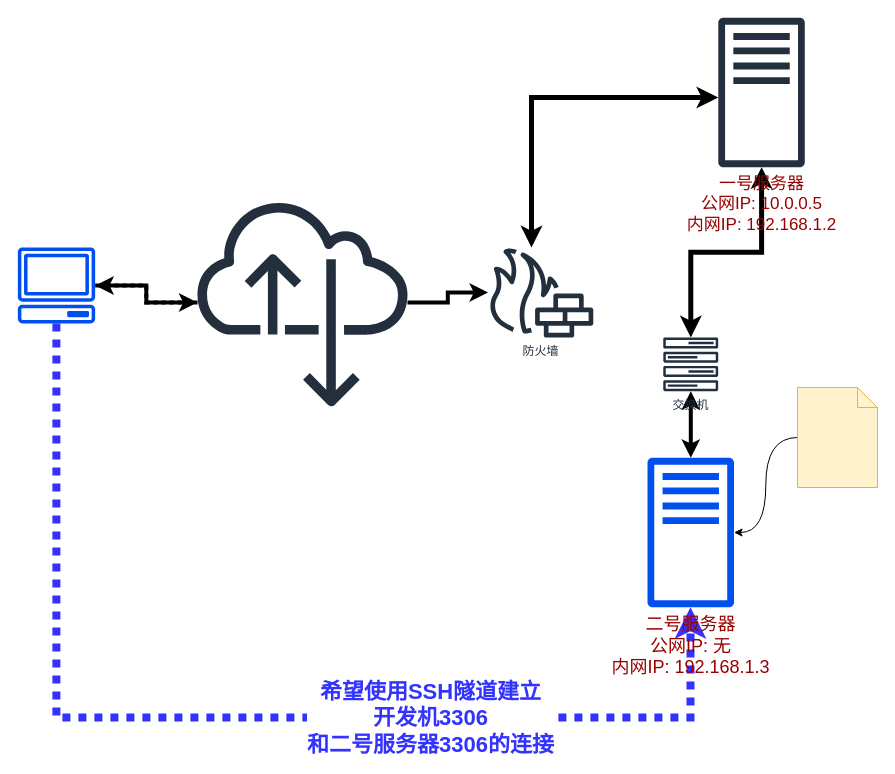
This 895x774 diagram has some shape labels left out. Here are the shapes that lost their labels. From the top down, the centre of each, then its label:
At [56,285]: "开发机".
At [837,437]: "使用3306访问数据库".
